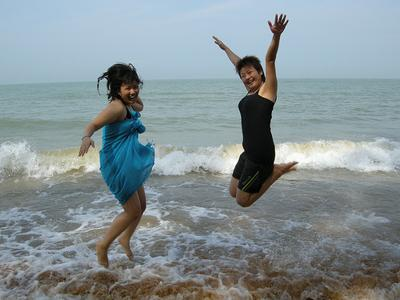person: (214, 13, 299, 210)
